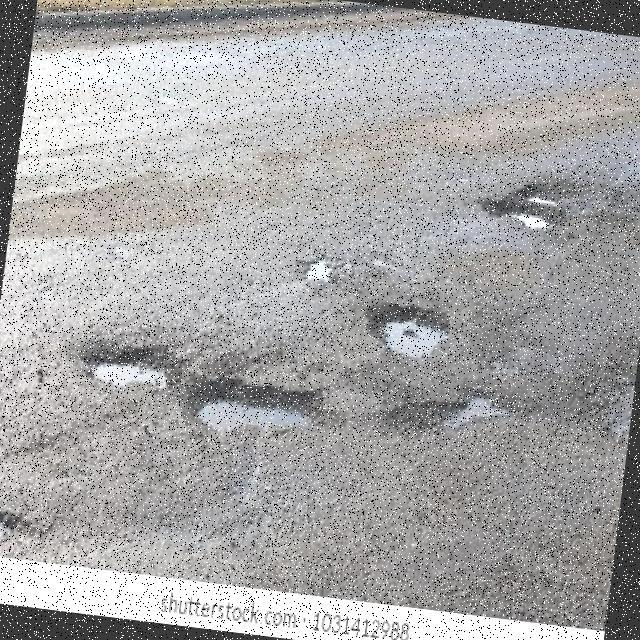Pothole: (379, 390, 515, 438), (189, 379, 314, 429), (88, 344, 176, 397), (364, 304, 448, 358), (484, 200, 559, 238), (517, 181, 567, 208)
